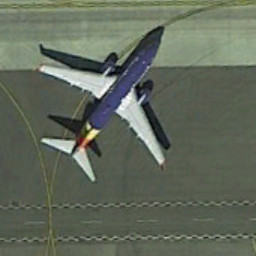Airplane: (31, 20, 183, 182)
